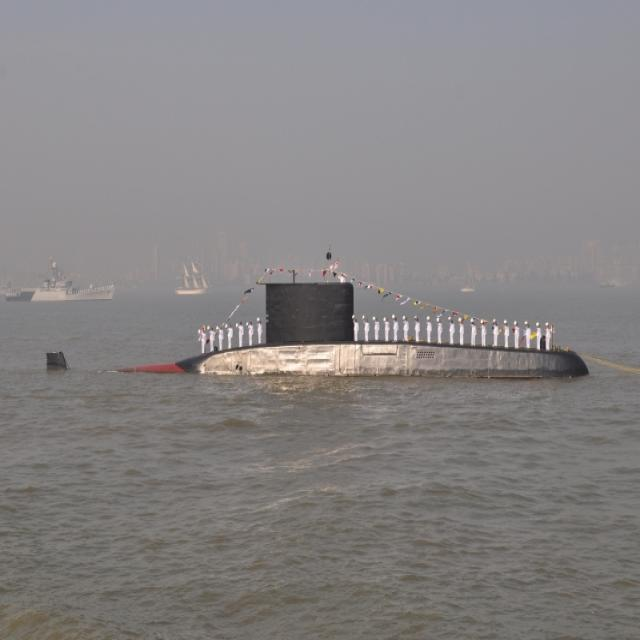submarine: (47, 276, 598, 374)
